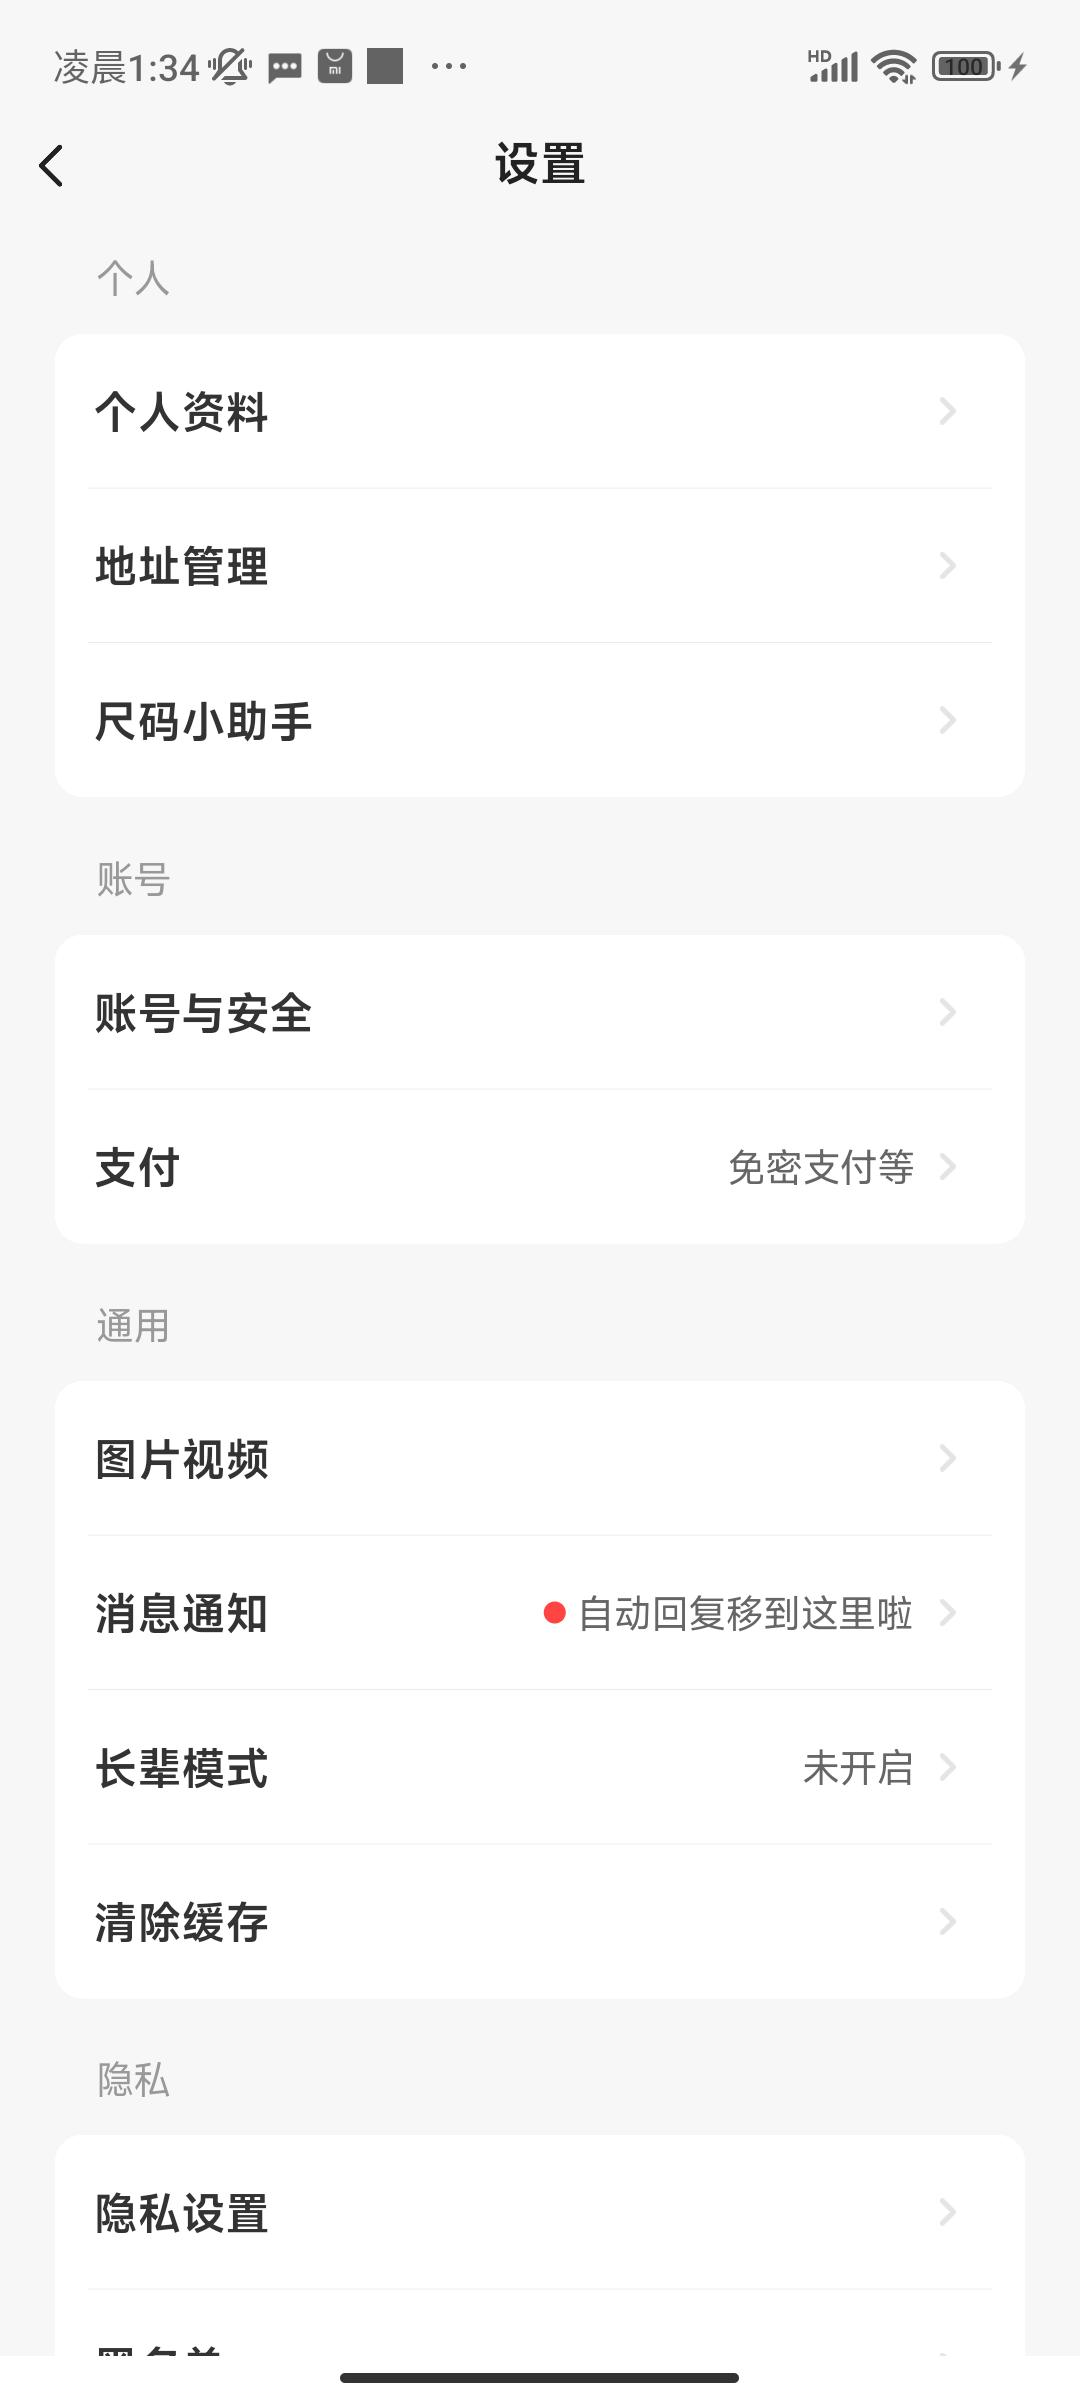ui_group: (54, 347, 1002, 464), (67, 1714, 967, 1835), (70, 1564, 974, 1682), (54, 1104, 970, 1214)
